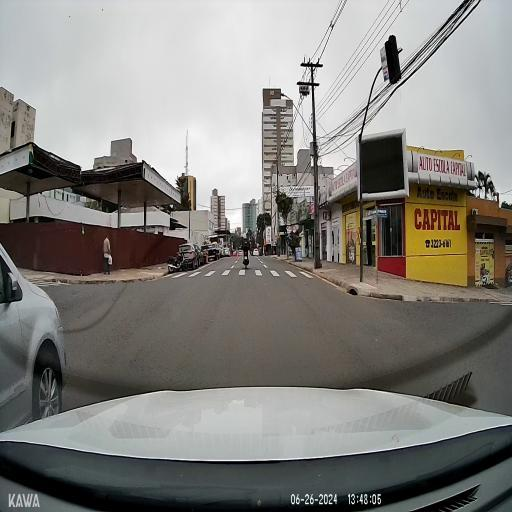R-19: (292, 226, 296, 234)
